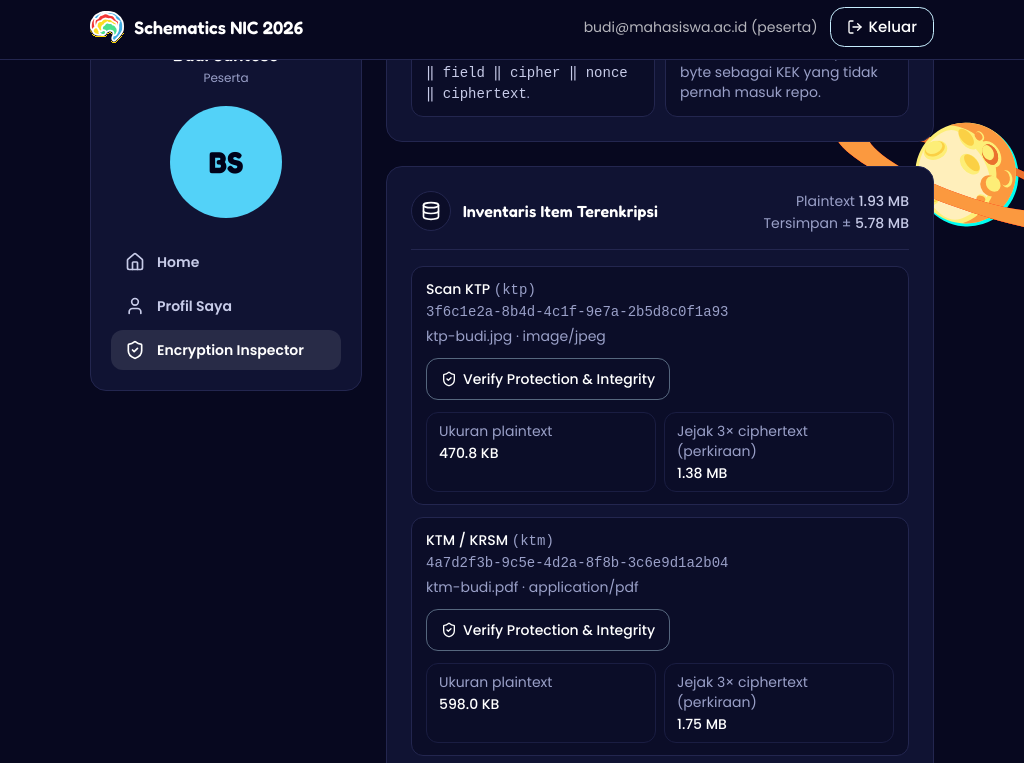
it: Encryption & Integrity Inspector › surfaces 500 integrity_error clearly when the server detects tampered ciphertext
This screenshot has width=1024, height=763.
(page scrolled)
Click the button with test id "verify-btn-ktp". click: x=548, y=379
box: [426, 358, 670, 400]
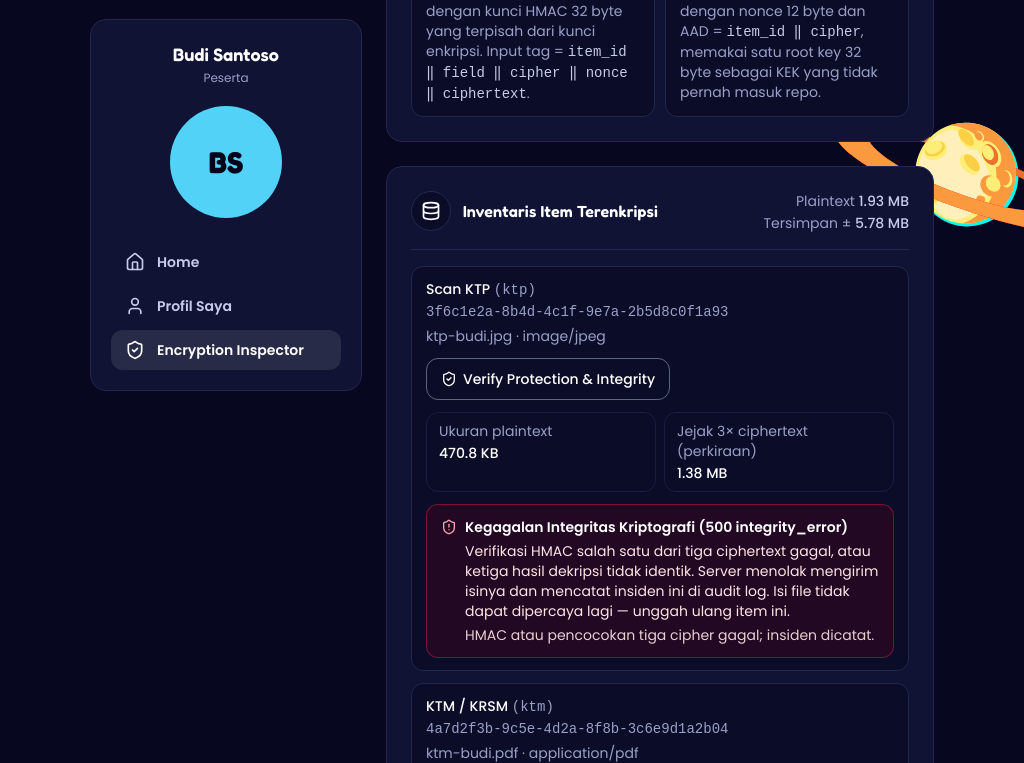
Now the message with test id "verify-error-ktp" shows "integrity_error", box [465, 517, 848, 537]
Now the message with test id "verify-error-ktp" shows "HMAC", box [465, 541, 878, 621]
